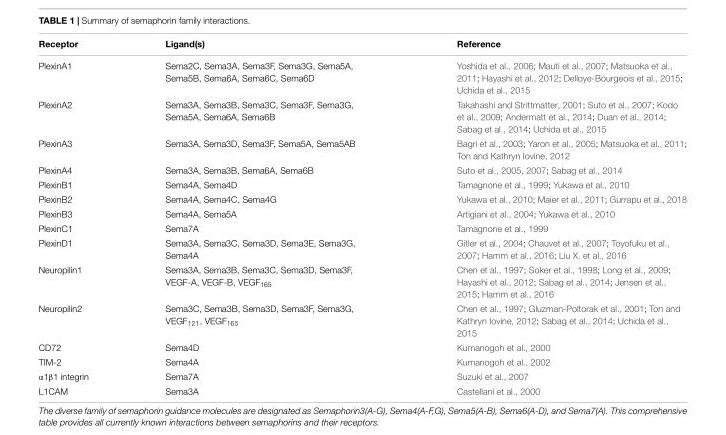table: (37, 37, 686, 395)
table column: (405, 37, 686, 395), (126, 37, 405, 395), (37, 37, 126, 395)
table column header: (37, 37, 686, 53)
table row: (37, 53, 686, 96), (37, 96, 686, 135), (37, 261, 686, 300), (37, 300, 686, 339), (37, 135, 686, 162), (37, 234, 686, 261), (37, 37, 686, 53), (37, 176, 686, 191), (37, 205, 686, 220), (37, 353, 686, 368), (37, 368, 686, 383), (37, 162, 686, 176), (37, 191, 686, 205), (37, 220, 686, 234), (37, 339, 686, 353), (37, 383, 686, 395)
